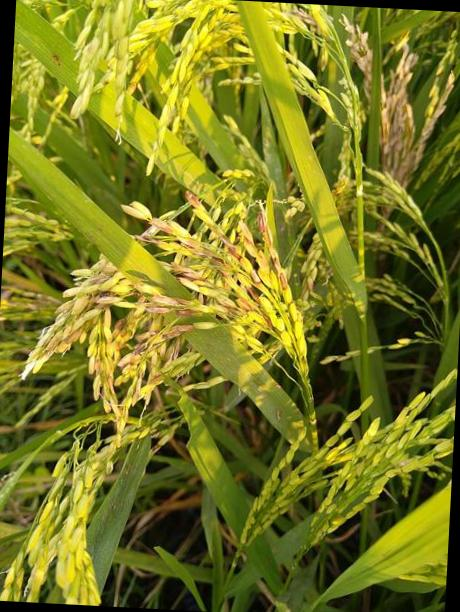Panicle Blight: (393, 70, 454, 187), (379, 45, 418, 168), (341, 15, 372, 106), (258, 211, 288, 291), (248, 268, 275, 330), (239, 221, 268, 270), (171, 265, 204, 291), (83, 266, 118, 286), (130, 226, 162, 246), (91, 290, 122, 309), (162, 323, 191, 343), (121, 202, 151, 221), (221, 238, 243, 263), (164, 334, 180, 368), (151, 295, 200, 306), (112, 318, 127, 352), (208, 255, 232, 276), (180, 242, 210, 257), (295, 10, 316, 31), (65, 327, 84, 348), (137, 324, 154, 347), (218, 268, 234, 292), (116, 353, 140, 369), (149, 218, 173, 233), (145, 306, 177, 315), (222, 300, 241, 315), (184, 189, 199, 208), (173, 309, 204, 317), (114, 93, 123, 119), (89, 356, 101, 375), (236, 298, 253, 311), (133, 341, 147, 356), (135, 293, 150, 305), (148, 373, 161, 385), (305, 275, 314, 292), (128, 83, 137, 92), (106, 373, 111, 389), (133, 385, 140, 396)
